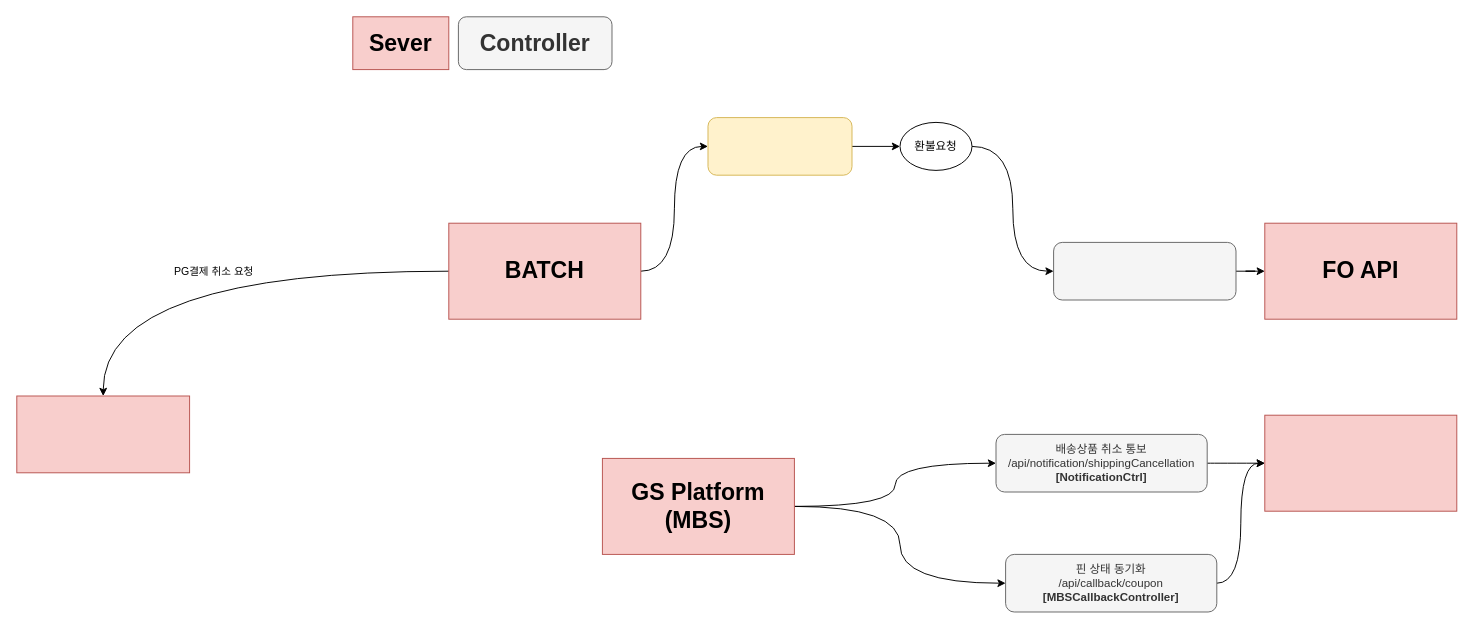
This 1474x629 diagram has some shape labels left out. Here are the shapes that lost their labels. From the top down, the centre of each, then its label:
At point (779, 146): "설문 주문별 환불처리 JOB BizMoneyRefundJob".
At point (1144, 270): "비즈머니 부분환급 /api/bizPoint/setBizPointAddPart".
At point (103, 434): "GATEWAY (PG - LEGACY)".
At point (1360, 462): "BO API".
